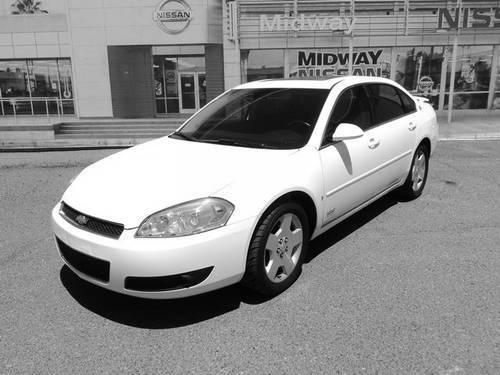car: (48, 74, 442, 304)
